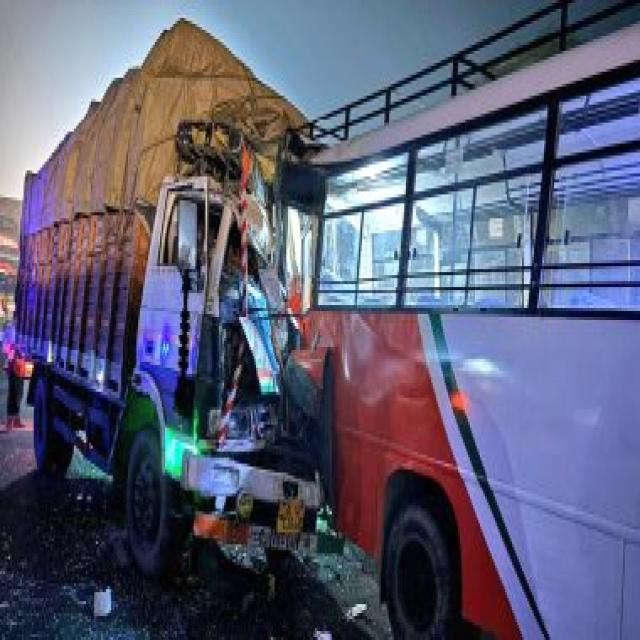accident: (16, 20, 321, 576)
bus: (281, 0, 639, 638)
